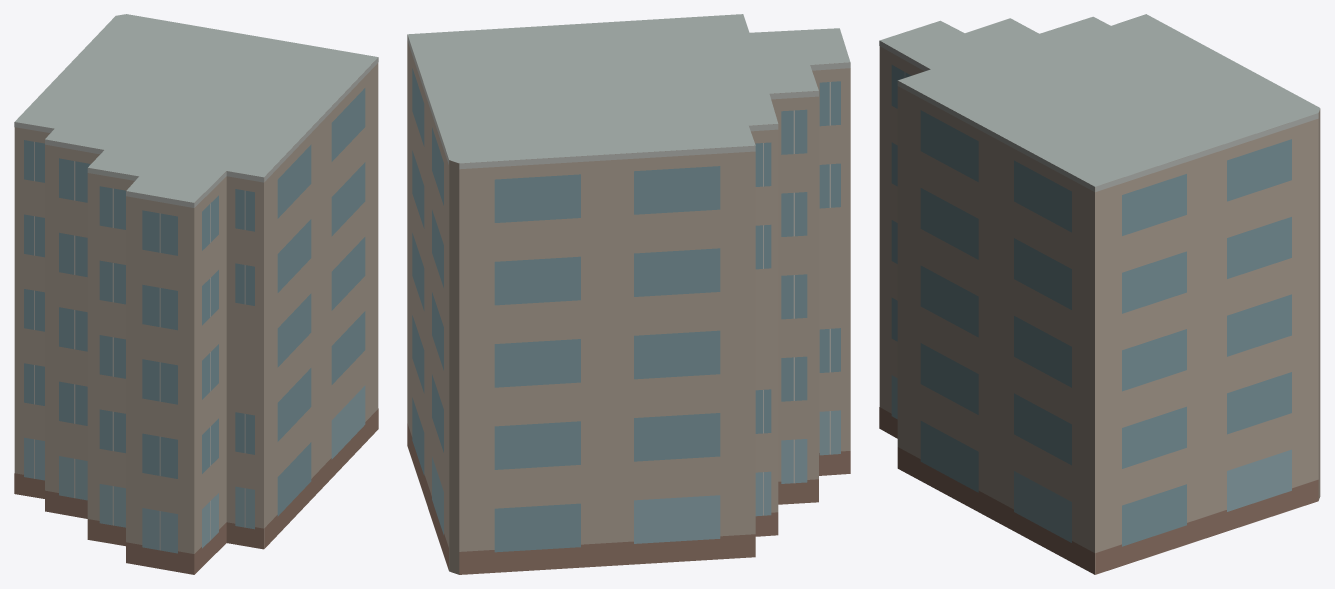
File: survey-upis-32938978.glb
The picture shows the model from 3 angles, left to right: view 1: azimuth 30°, elevation 25°; view 2: azimuth 150°, elevation 25°; view 3: azimuth 270°, elevation 25°; orthographic projection. The views are drawn at different scales.
Parts seen in each view (by area): view 1: survey-upis-32938978.tmp; view 2: survey-upis-32938978.tmp; view 3: survey-upis-32938978.tmp.
Part boxes in pixels (box(x1,y1,x2,y2)): survey-upis-32938978.tmp: box(14, 14, 378, 574); survey-upis-32938978.tmp: box(407, 14, 850, 574); survey-upis-32938978.tmp: box(879, 14, 1320, 574).
Size of the model in its own units: 16.53 by 17.3 by 17.82.
